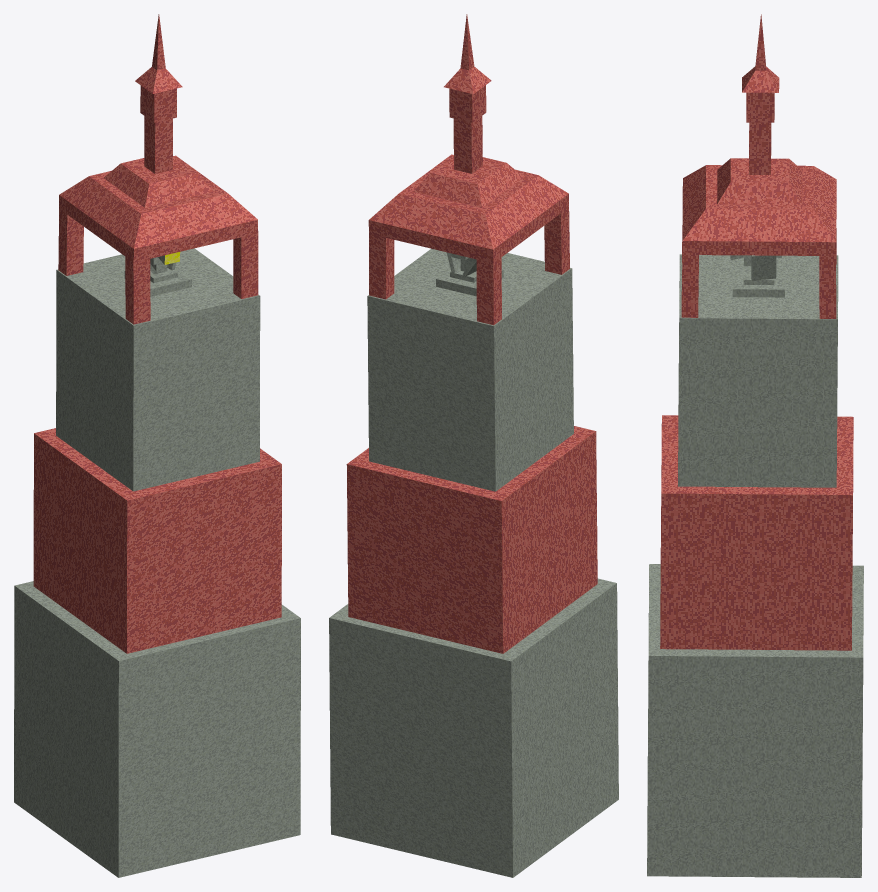
File: BGN_LIGHT HOUSE.fbx
The picture shows the model from 3 angles, left to right: view 1: azimuth 30°, elevation 25°; view 2: azimuth 150°, elevation 25°; view 3: azimuth 270°, elevation 25°; orthographic projection. The views are drawn at different scales.
Visible parts, largest first — view 1: BGN_LIGHT HOUSE; view 2: BGN_LIGHT HOUSE; view 3: BGN_LIGHT HOUSE.
Part boxes in pixels (x1=…): BGN_LIGHT HOUSE: x1=14, y1=14, x2=300, y2=877; BGN_LIGHT HOUSE: x1=329, y1=14, x2=618, y2=877; BGN_LIGHT HOUSE: x1=647, y1=14, x2=863, y2=877.
Bounding box in the file's own units: 1009 × 4217 × 1010.
